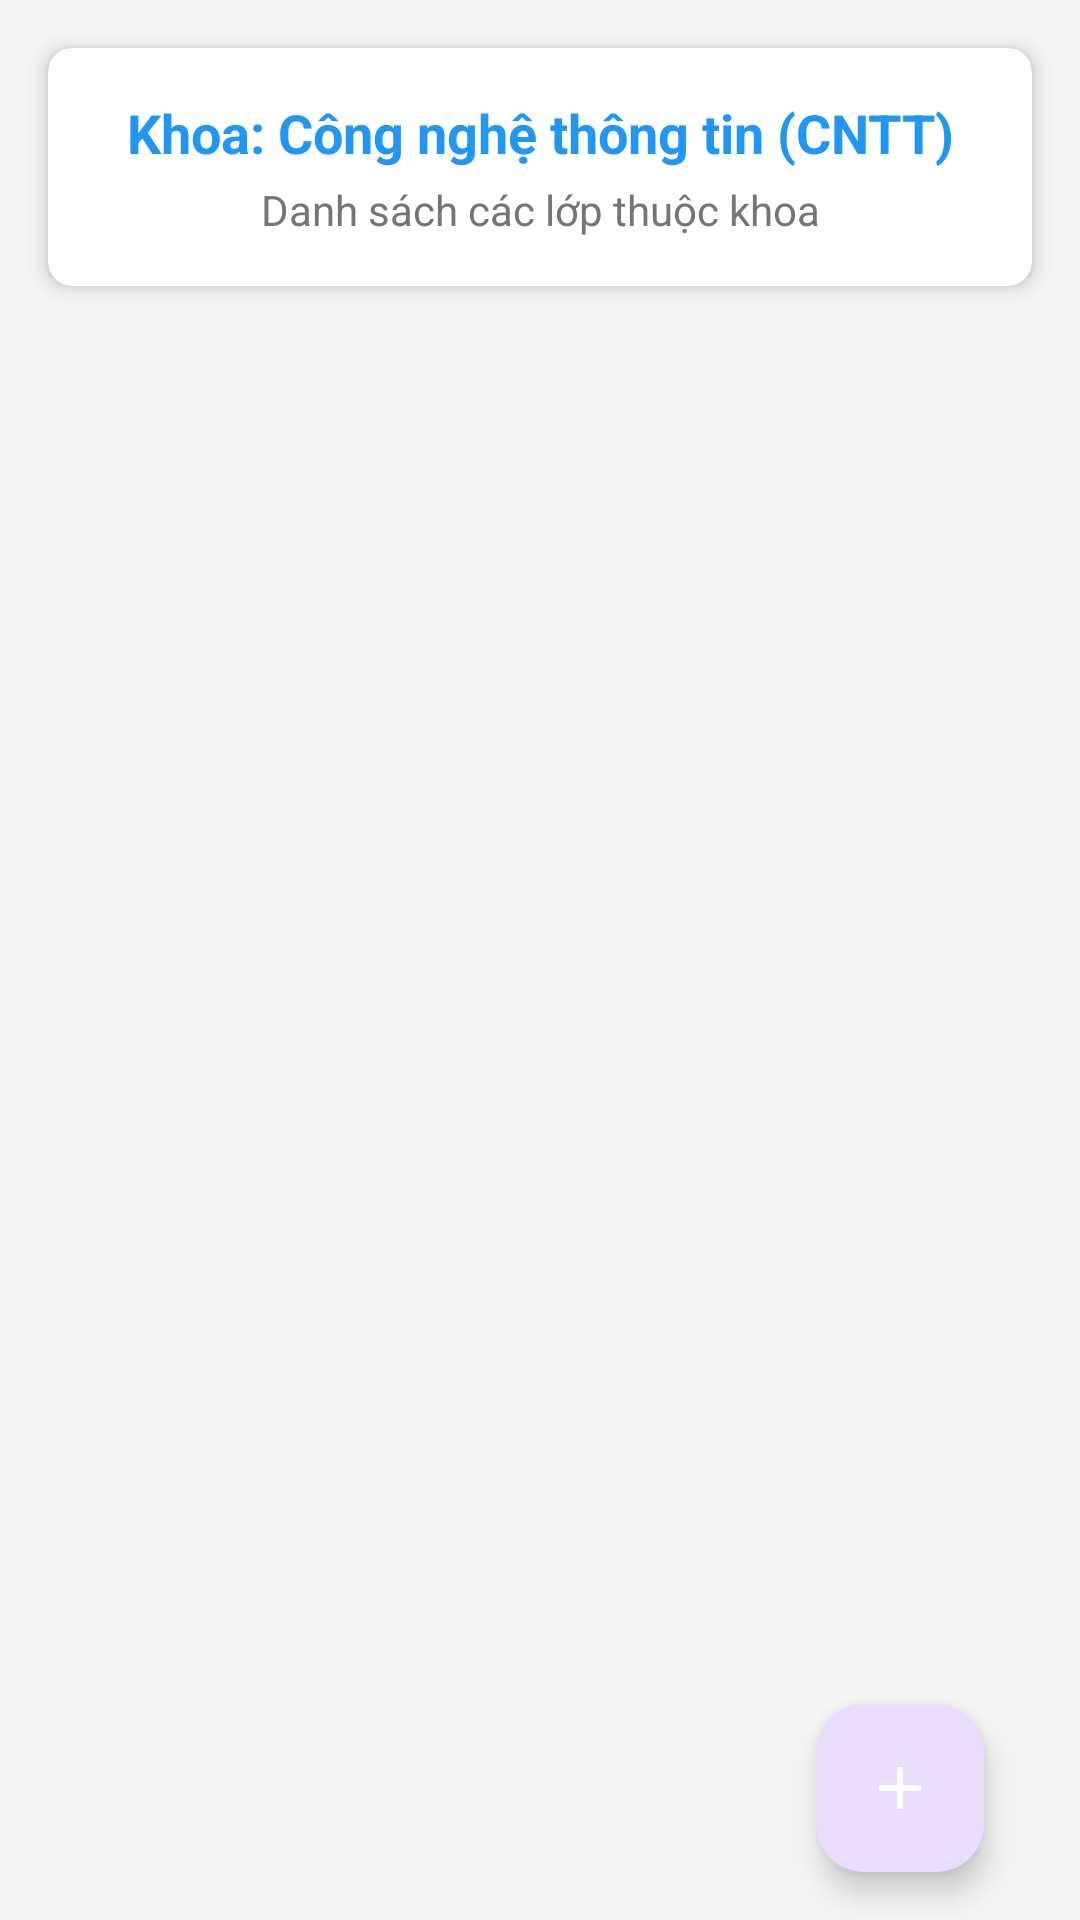

Icon click points for this 1080x1920 phone screenshot, format (x=x, y=y):
Thêm lớp mới: (x=900, y=1788)
